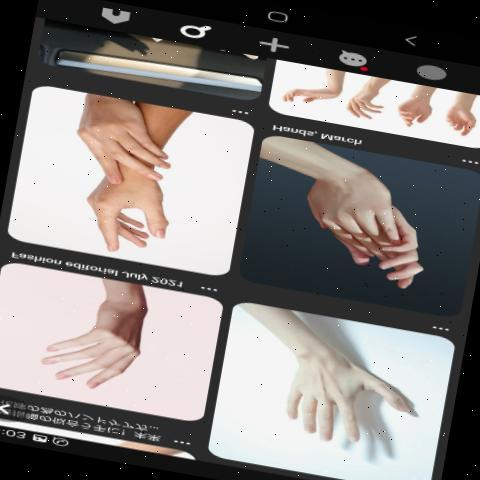Hands: (243, 342, 430, 462), (298, 153, 443, 292), (23, 282, 193, 393), (58, 102, 186, 190), (83, 174, 194, 253), (280, 76, 346, 114), (346, 86, 396, 126), (394, 91, 440, 132), (441, 103, 480, 142)
